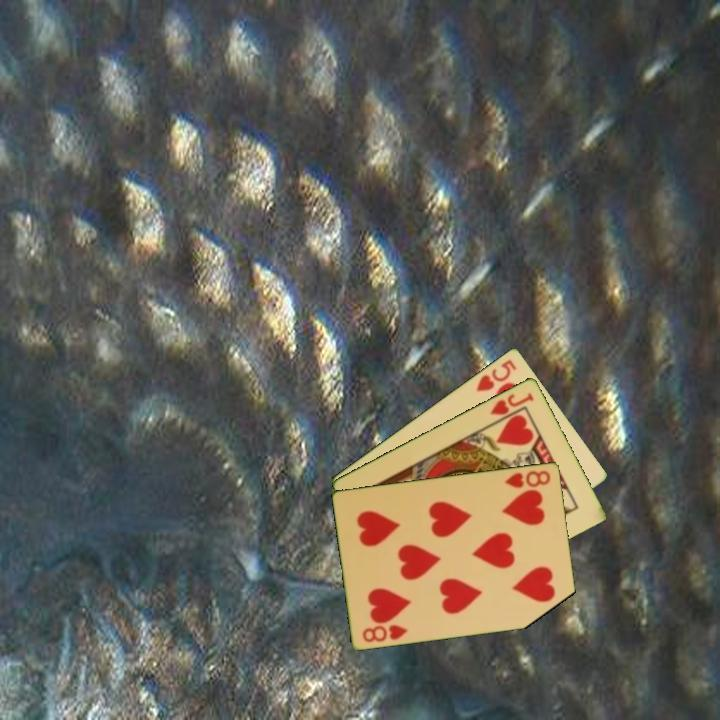5h: (472, 355, 519, 394)
8h: (359, 621, 410, 645), (501, 467, 553, 490)
Jh: (486, 388, 537, 426)
